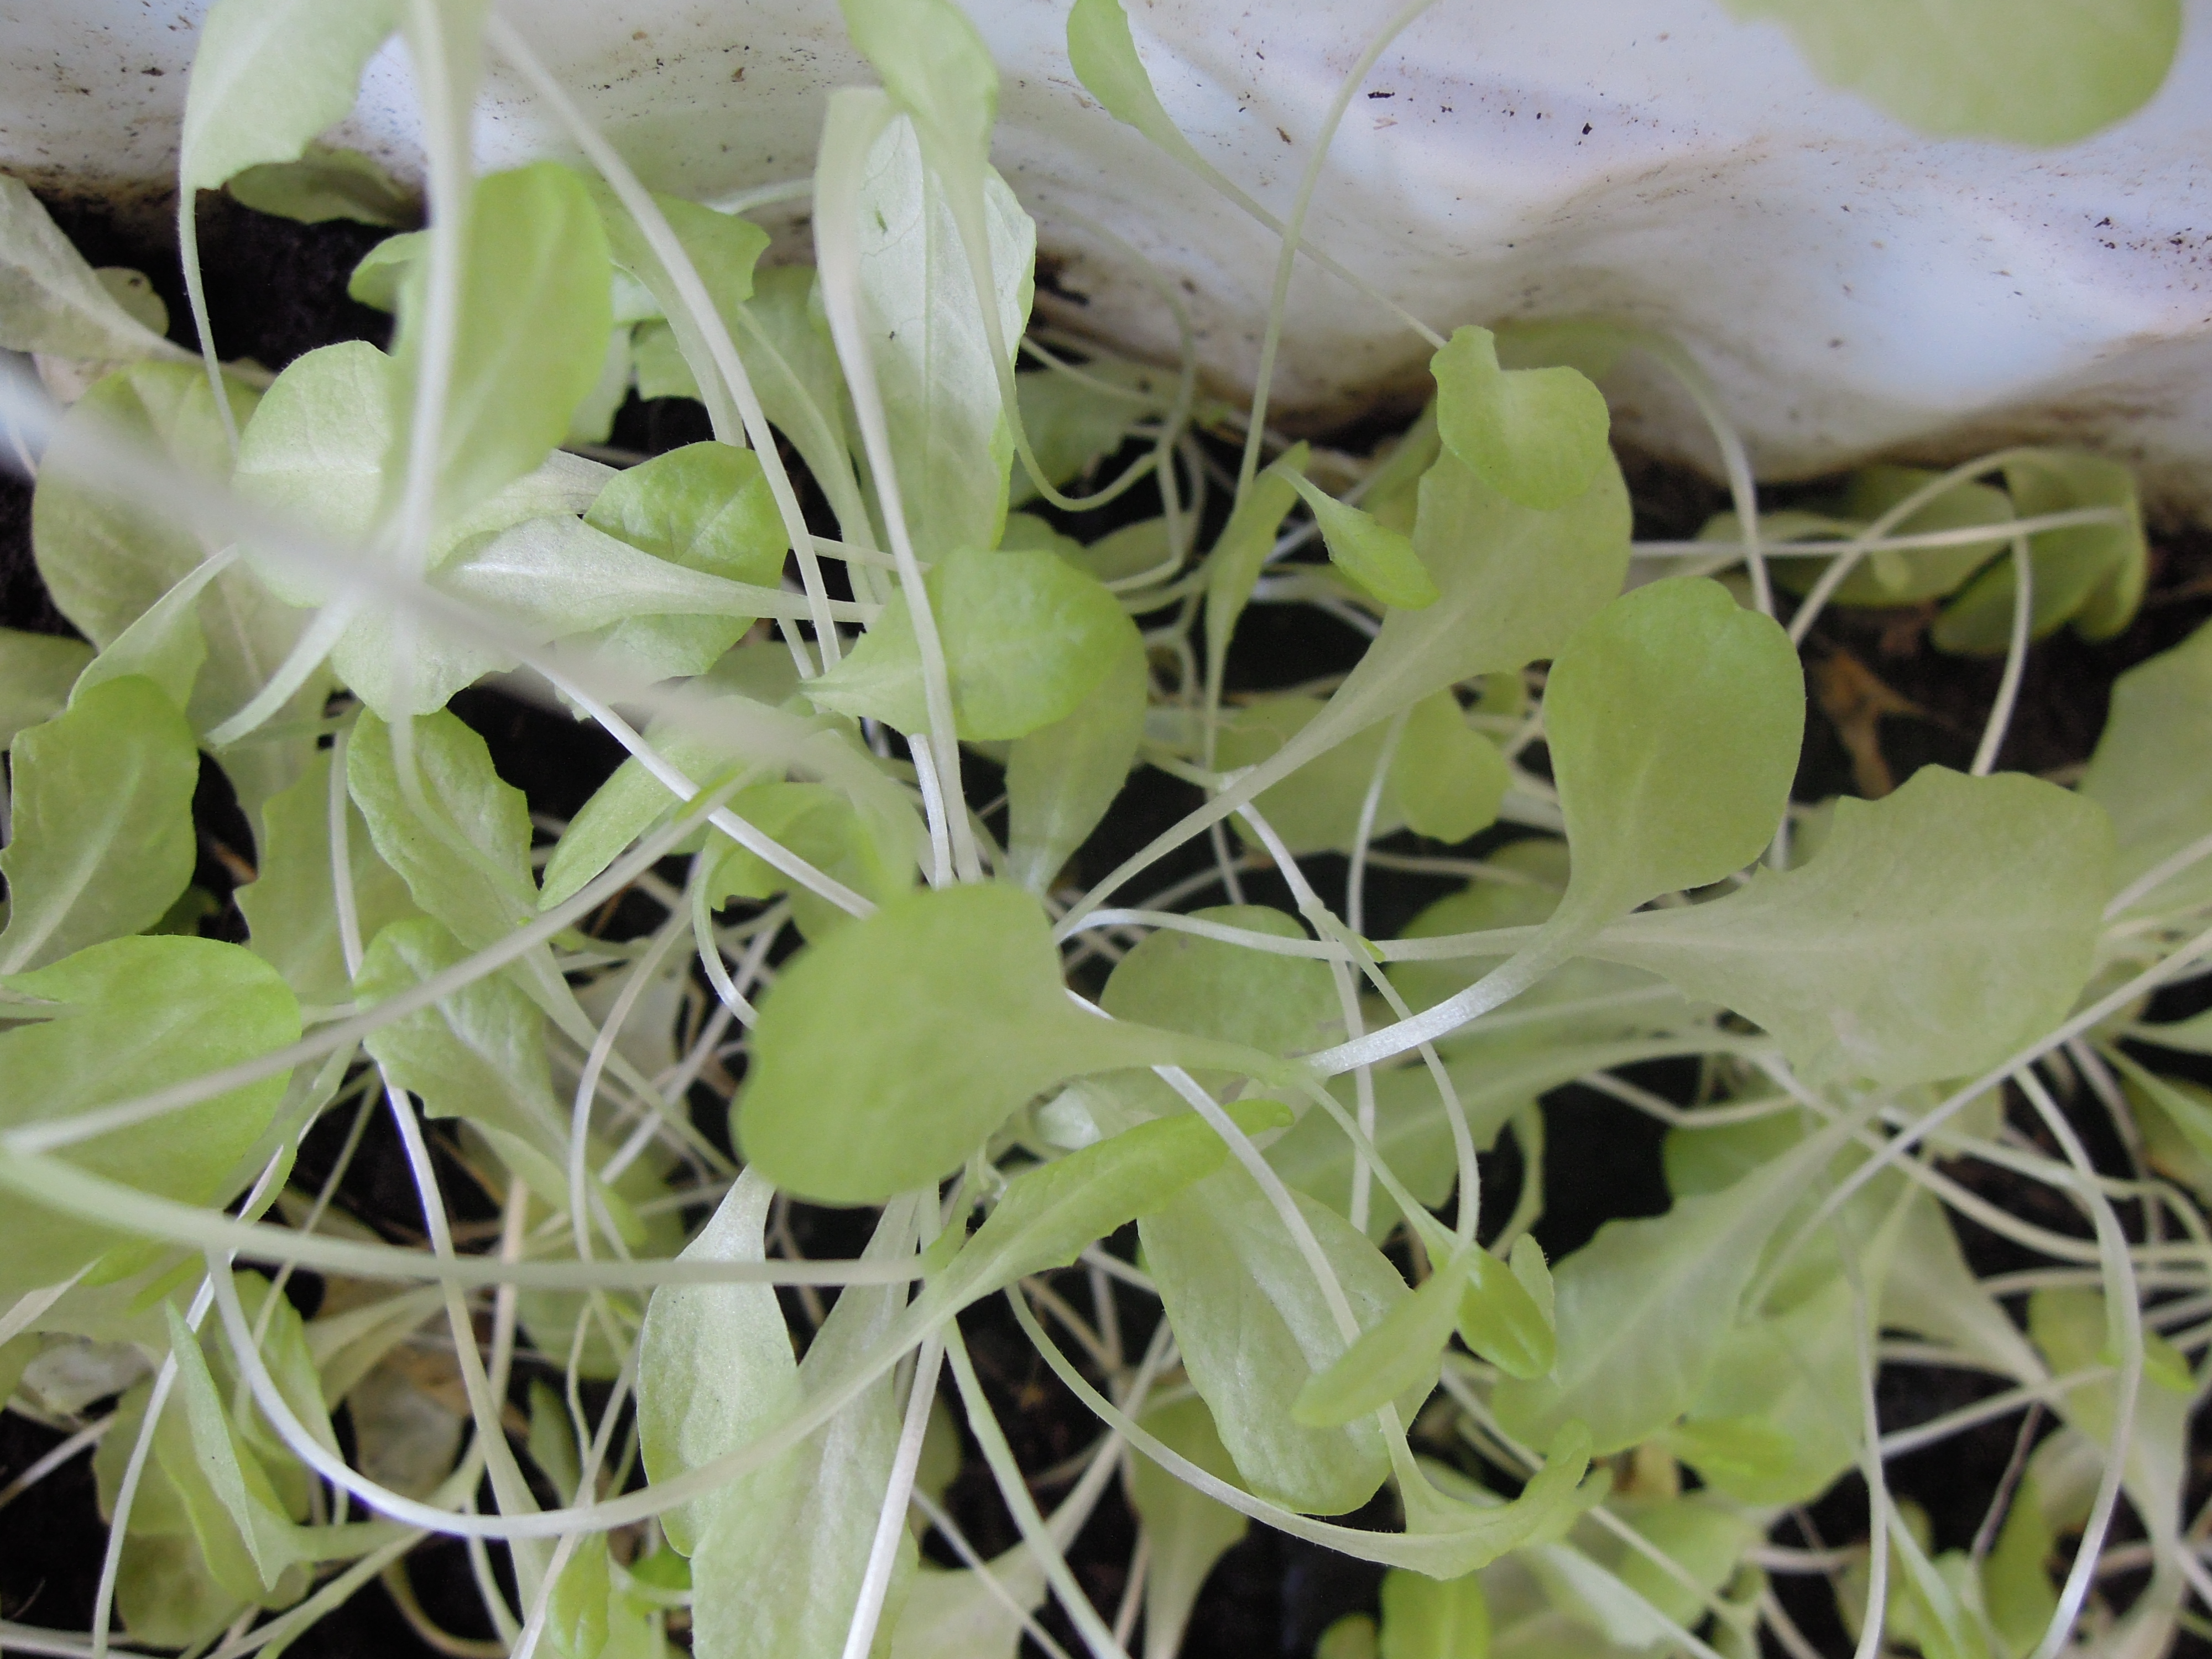weeek6: (721, 340, 2167, 1591)
